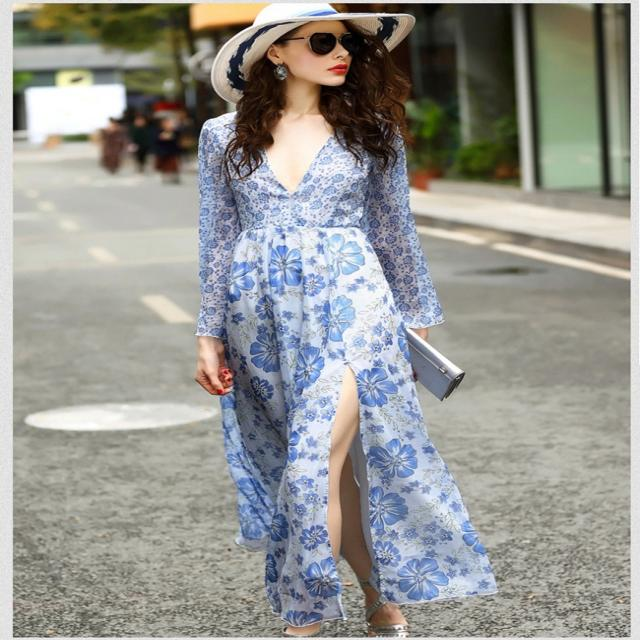clothes: (188, 96, 491, 615)
